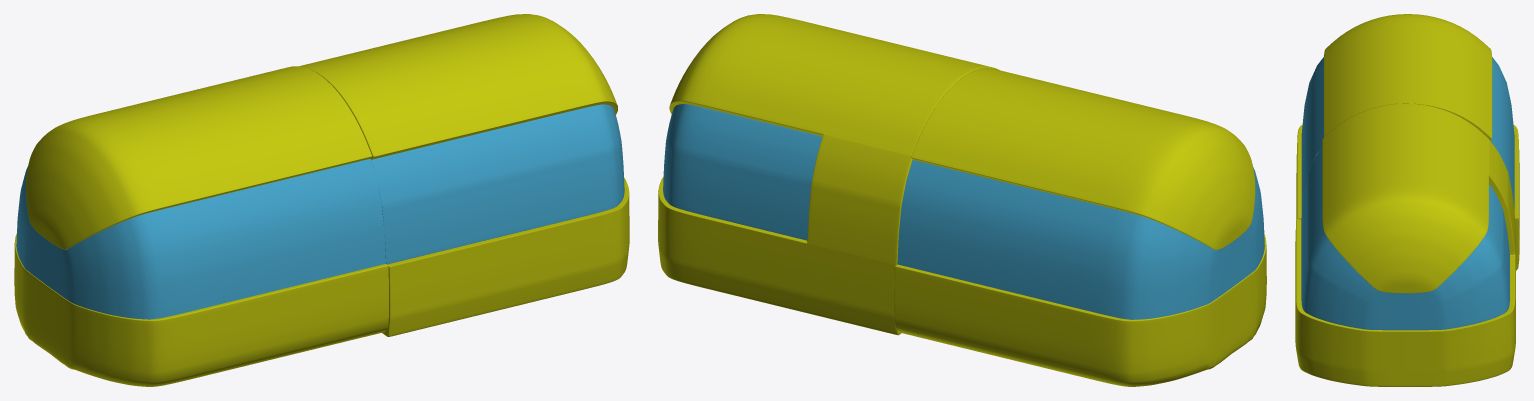
3 renders of one model, left to right at view 1: azimuth 30°, elevation 25°; view 2: azimuth 150°, elevation 25°; view 3: azimuth 270°, elevation 25°, orthographic. The views are drawn at different scales.
Visible parts, largest first — view 1: Cap_all_002; view 2: Cap_all_002; view 3: Cap_all_002.
Part boxes in pixels (left/top/right/bottom): Cap_all_002: left=14, top=14, right=629, bottom=386; Cap_all_002: left=658, top=14, right=1266, bottom=386; Cap_all_002: left=1295, top=14, right=1519, bottom=386.
Size of the model in its own units: 620 by 230 by 268.
